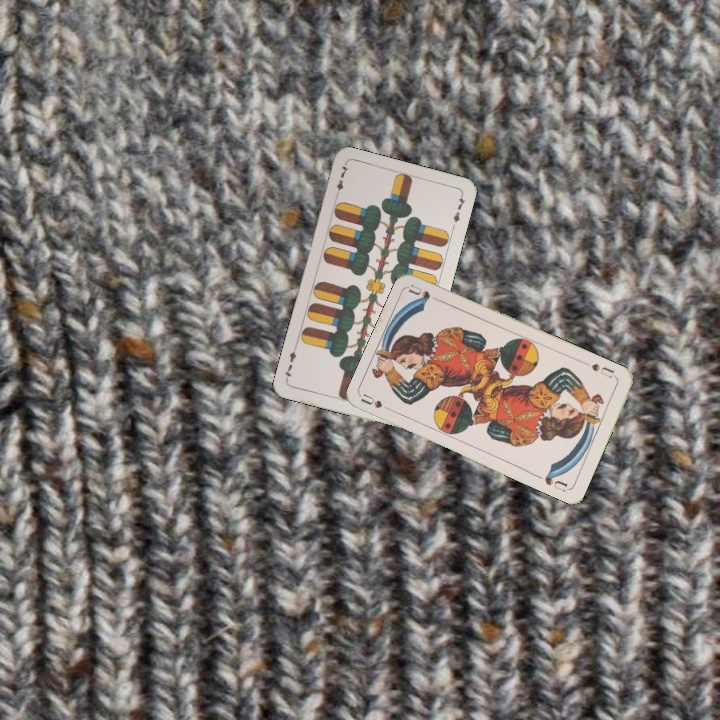E7: (331, 160, 352, 200)
SU: (358, 390, 398, 415), (581, 358, 619, 381)
